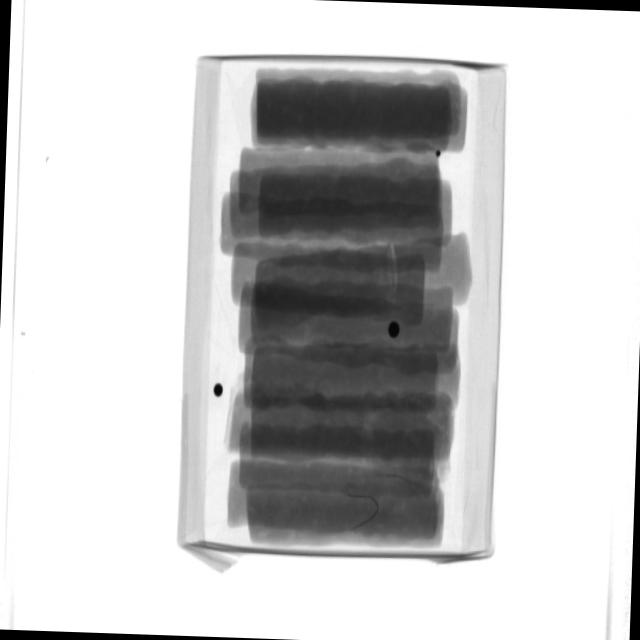ym: (348, 491, 380, 534), (389, 321, 401, 339), (214, 384, 223, 398), (434, 151, 442, 158)
